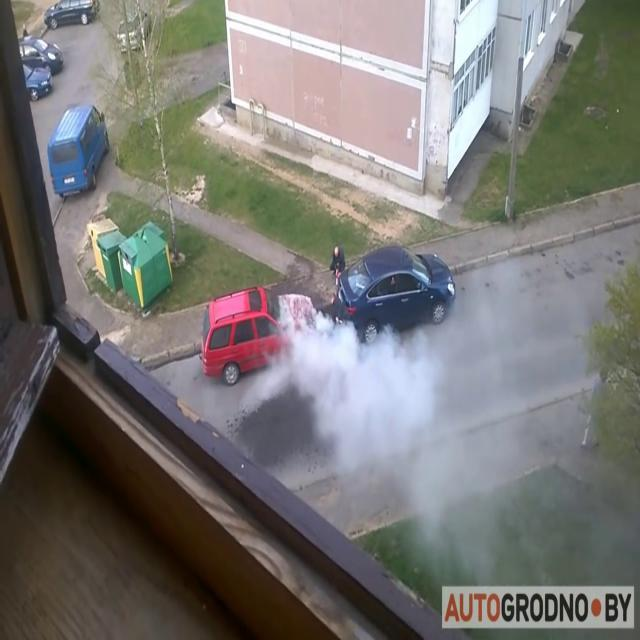Smoke: (282, 244, 627, 584)
